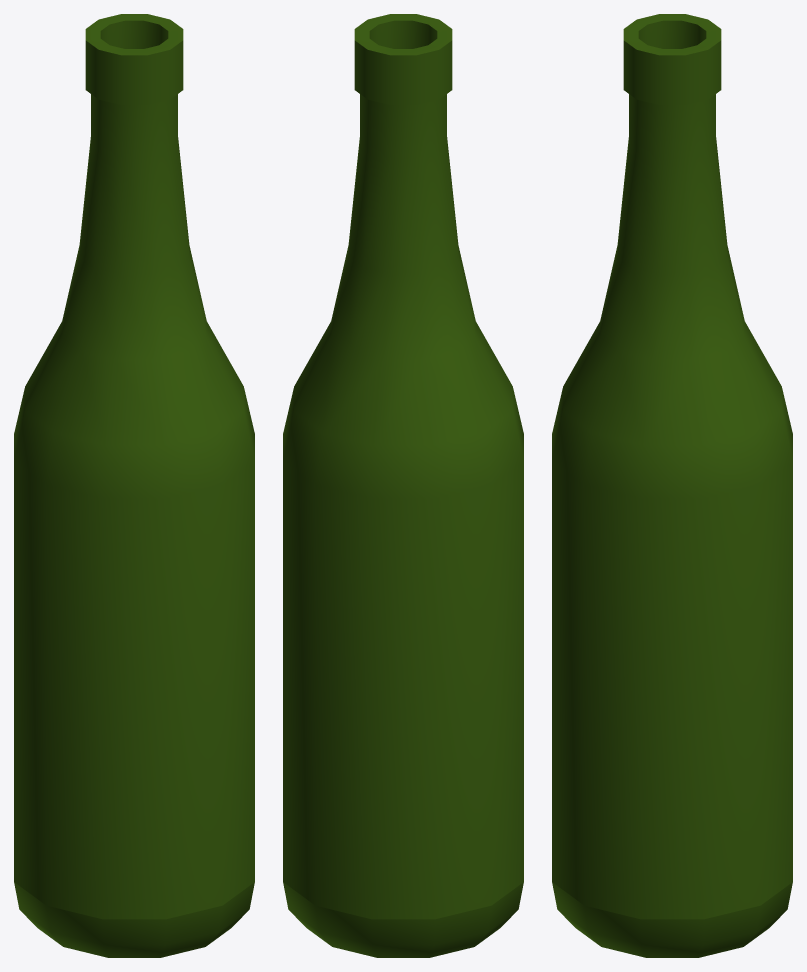
Rendered from BottleGreen.FBX.
3 views of the same model, side by side, from view 1: azimuth 30°, elevation 25°; view 2: azimuth 150°, elevation 25°; view 3: azimuth 270°, elevation 25° (orthographic).
Visible parts, largest first — view 1: Bottle_type3_011; view 2: Bottle_type3_011; view 3: Bottle_type3_011.
Boxes of the visible parts, <box> form: Bottle_type3_011: <box>14,14,254,957</box>; Bottle_type3_011: <box>283,14,523,957</box>; Bottle_type3_011: <box>552,14,792,957</box>.
Bounding box in the file's own units: 3.86 × 3.86 × 15.6.
